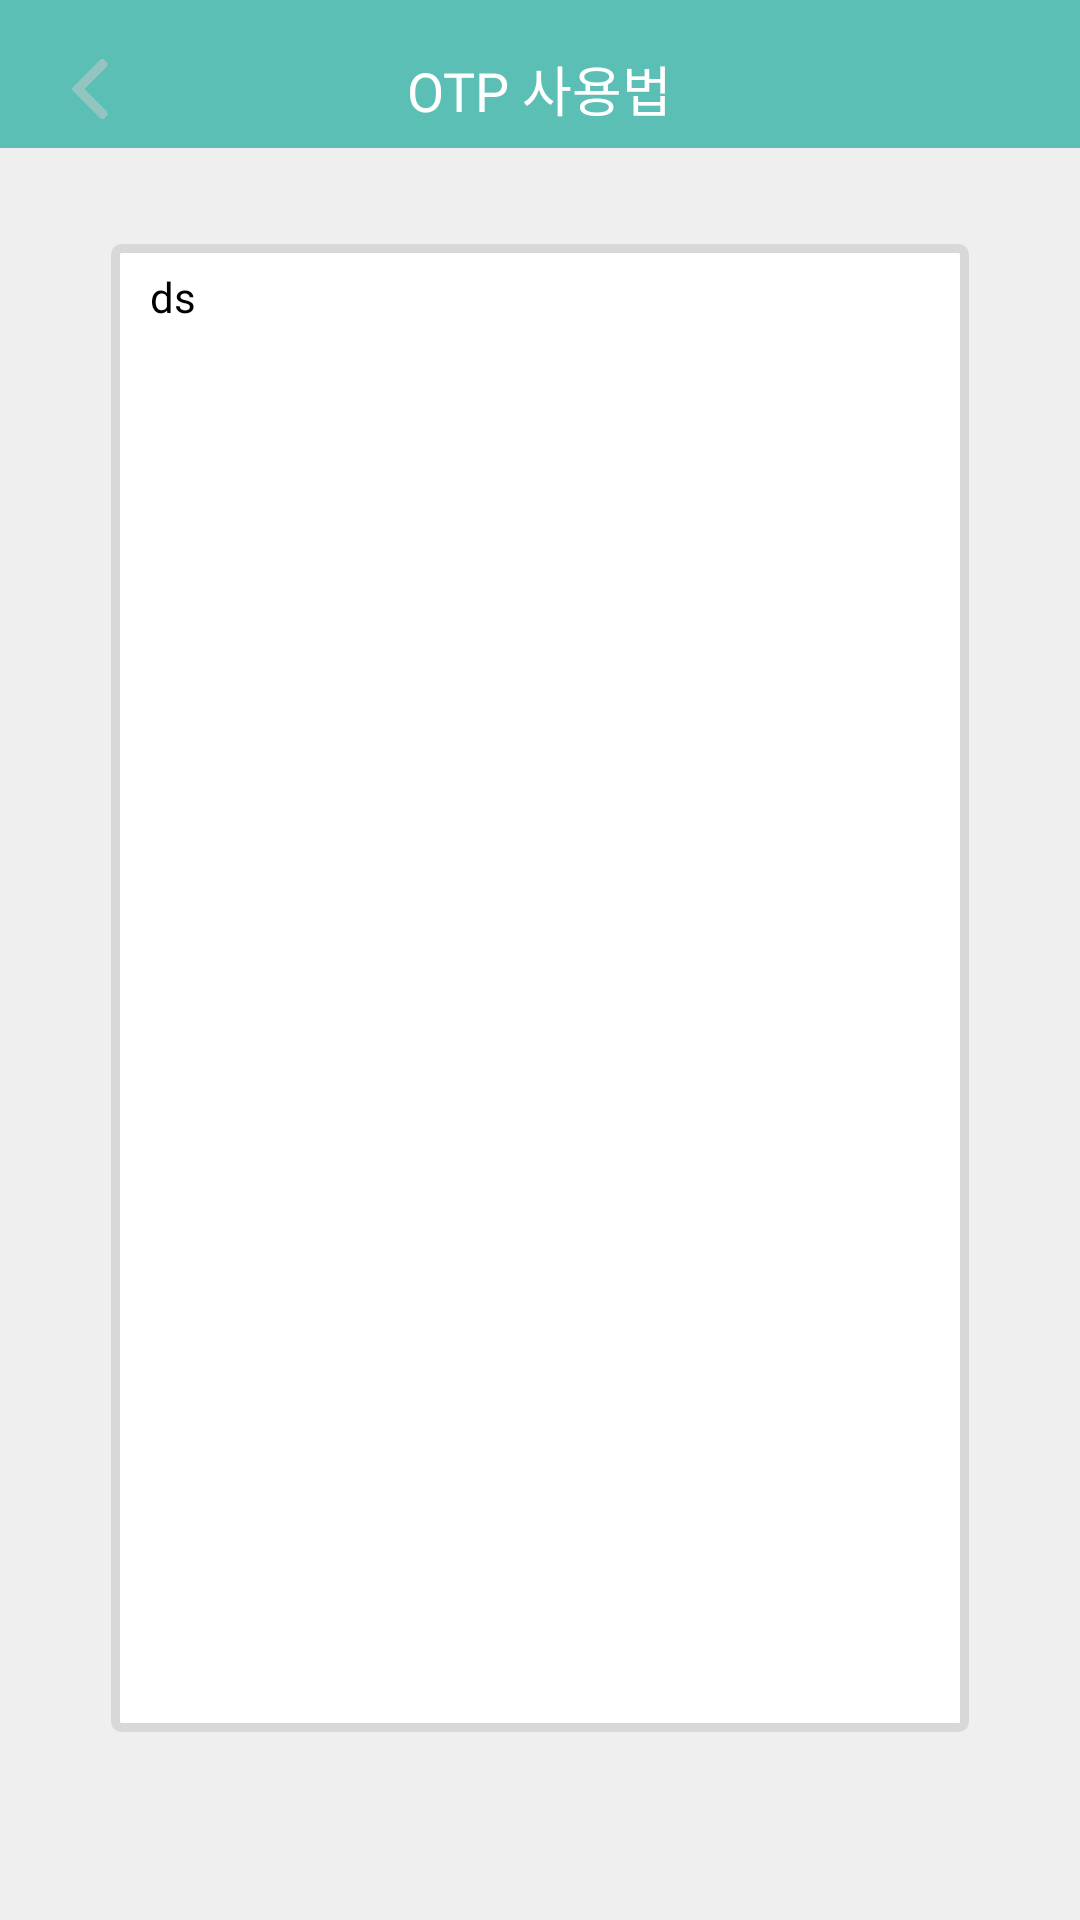

Icons on this 1080×1920 Android screen, each with its box as box(x1, y1, x2, y2):
left arrow: box(72, 59, 108, 119)
